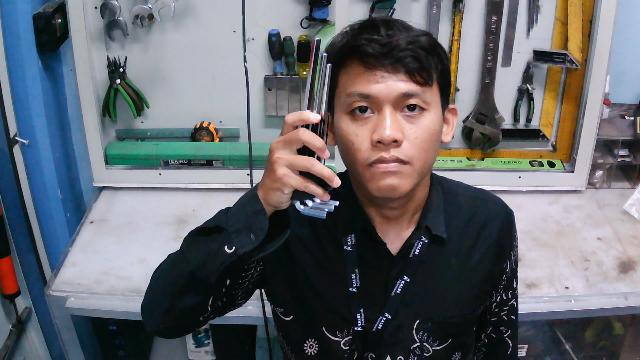kunci_l: (287, 36, 341, 224)
